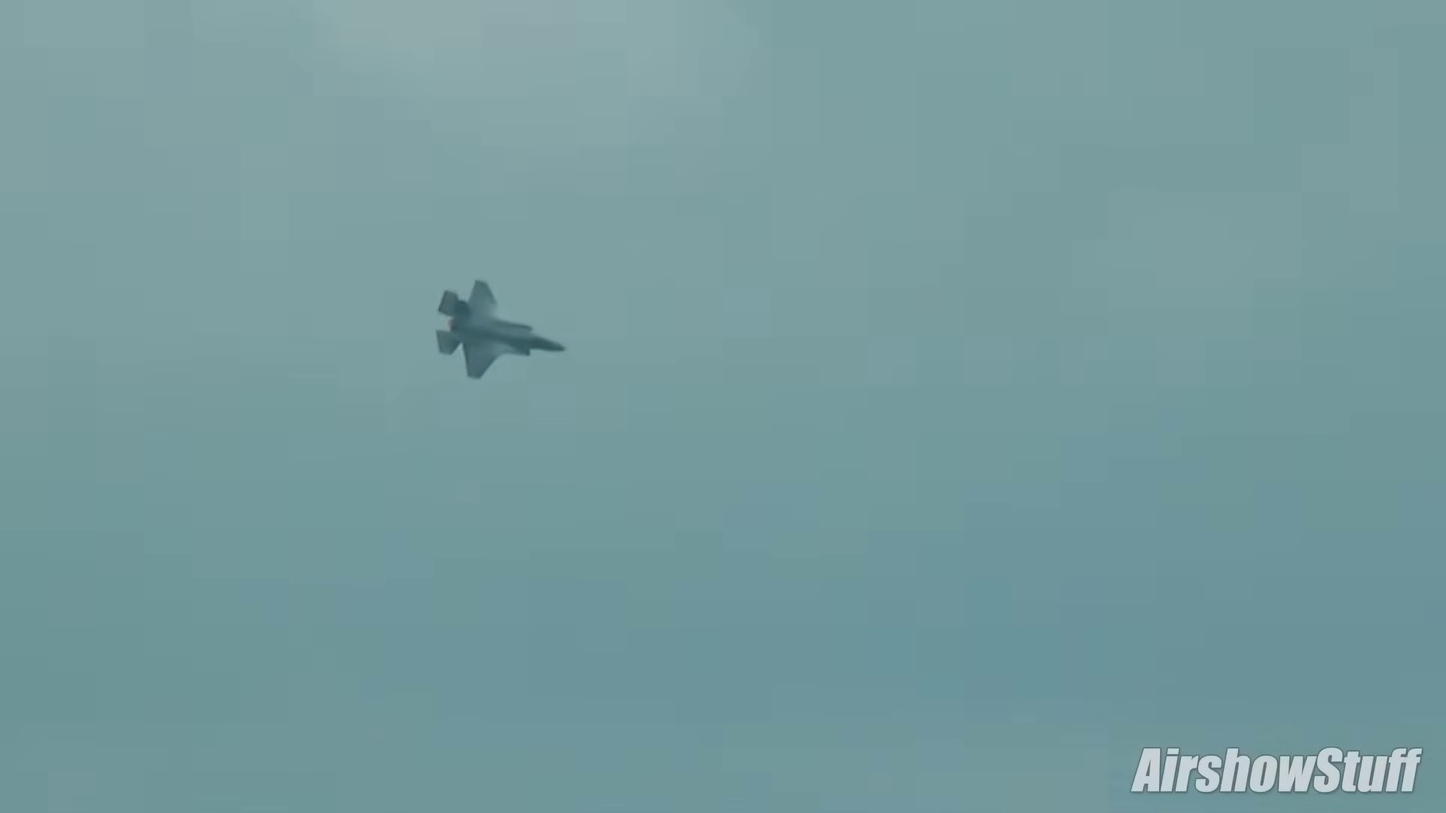F35: (434, 276, 571, 381)
